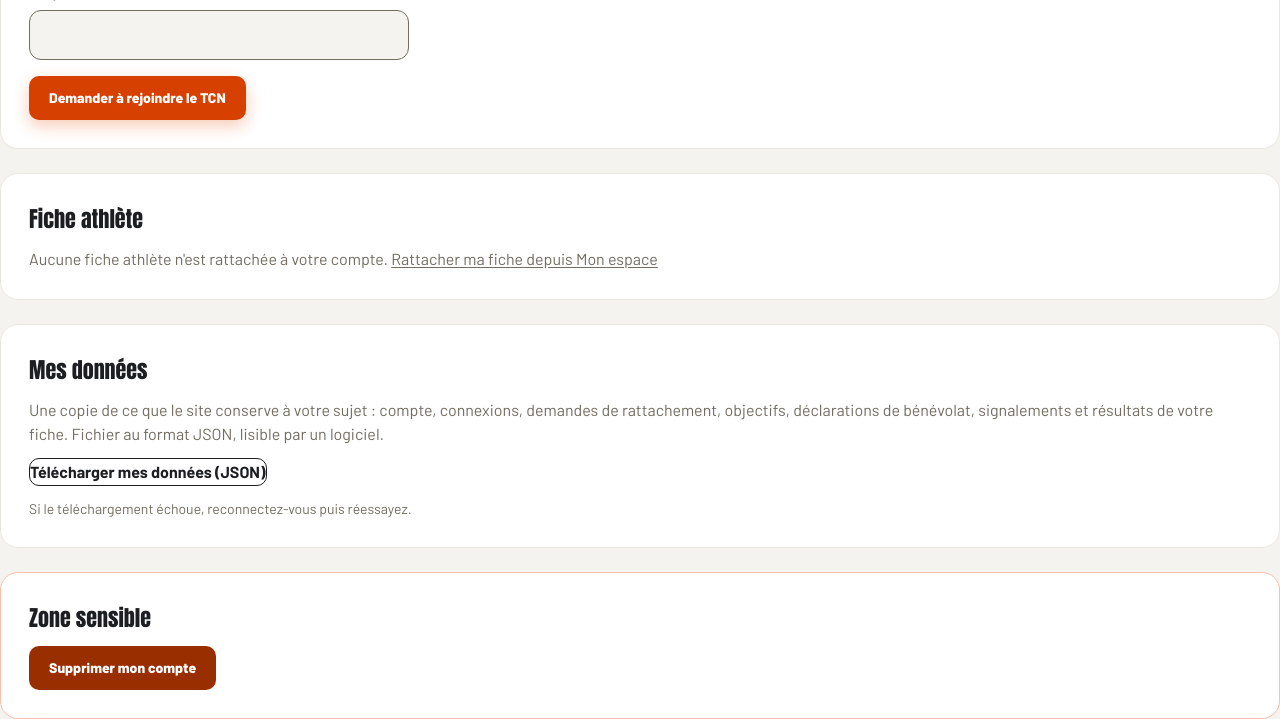
AccountPage: sensitive zone › opens the deletion dialog without any request
The width and height of the screenshot is (1280, 719).
(page scrolled)
Click the button "Supprimer mon compte" at (123, 668), box [29, 646, 216, 690]
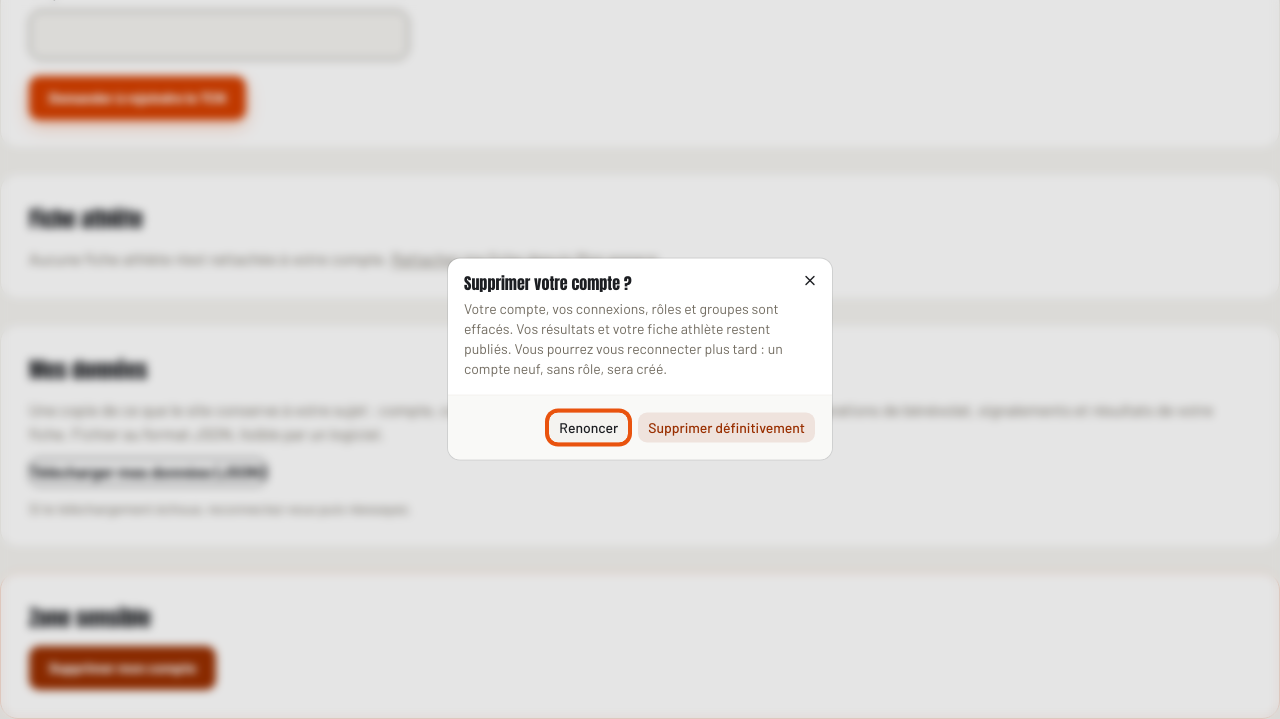
Expected: the dialog shows "connexions, rôles et groupes", [464, 300, 783, 376]
